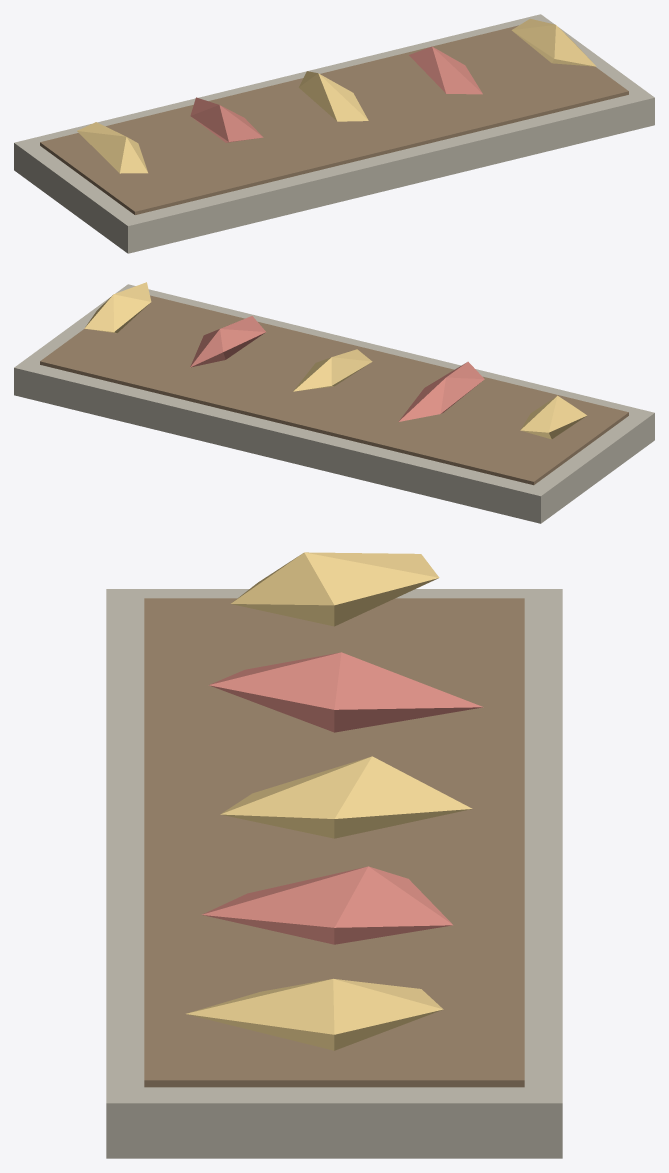
3 renders of one model, top to bottom at view 1: azimuth 30°, elevation 25°; view 2: azimuth 150°, elevation 25°; view 3: azimuth 270°, elevation 25°, orthographic. The views are drawn at different scales.
Size of the model in its own units: 8 by 1 by 3.
